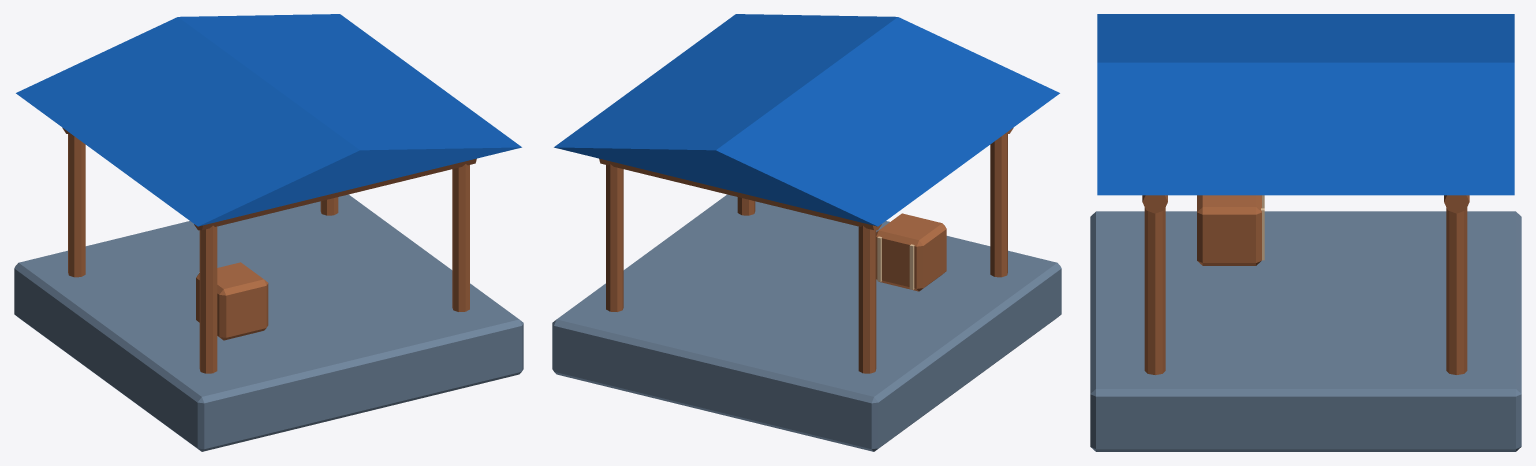
File: Harbor_Stage3_v001.fbx
3 renders of one model, left to right at view 1: azimuth 30°, elevation 25°; view 2: azimuth 150°, elevation 25°; view 3: azimuth 270°, elevation 25°, orthographic. The views are drawn at different scales.
Parts seen in each view (by area): view 1: StoneFoundation, Roof, Crate, Post.003, Post.001, Post.002, Beam.001; view 2: StoneFoundation, Roof, Crate, Post.002, Post, Post.003, Beam; view 3: StoneFoundation, Roof, Crate, Post, Post.001.
Part boxes in pixels (left/top/right/bottom): StoneFoundation: left=14, top=194, right=523, bottom=451; Roof: left=16, top=14, right=521, bottom=226; Crate: left=196, top=262, right=268, bottom=340; Post.003: left=199, top=225, right=217, bottom=373; Post.001: left=452, top=164, right=469, bottom=311; Post.002: left=68, top=134, right=85, bottom=277; Beam.001: left=194, top=158, right=476, bottom=230; StoneFoundation: left=552, top=194, right=1061, bottom=451; Roof: left=554, top=14, right=1059, bottom=226; Crate: left=876, top=213, right=946, bottom=291; Post.002: left=858, top=225, right=876, bottom=373; Post: left=606, top=164, right=623, bottom=311; Post.003: left=990, top=134, right=1007, bottom=277; Beam: left=599, top=158, right=881, bottom=230; StoneFoundation: left=1090, top=211, right=1521, bottom=451; Roof: left=1097, top=14, right=1514, bottom=195; Crate: left=1197, top=195, right=1261, bottom=265; Post: left=1446, top=207, right=1467, bottom=374; Post.001: left=1144, top=207, right=1165, bottom=374.
Bounding box in the file's own units: 186 × 143 × 186.
